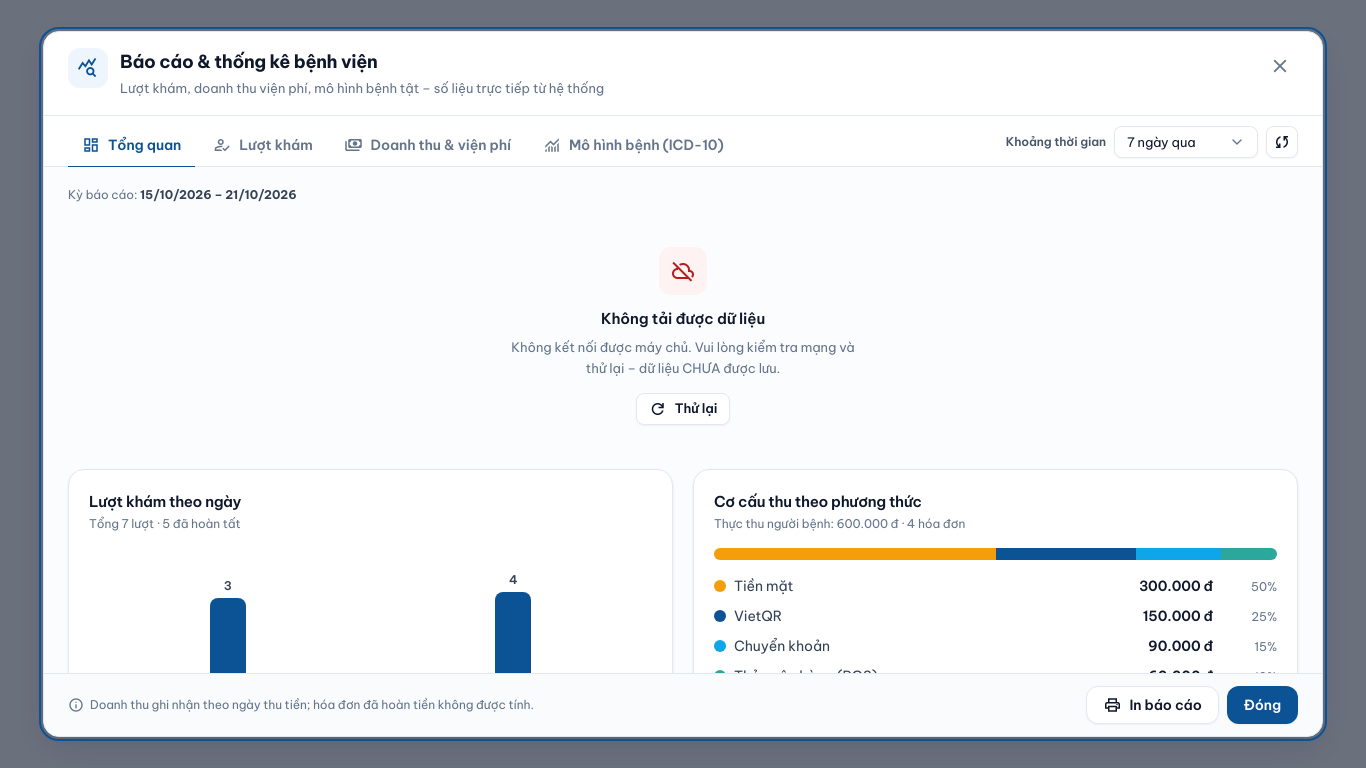
Scenario: Báo cáo & thống kê – chỉ dùng số liệu thật › StatisticsDashboardModal › lỗi tải → hiển thị trạng thái lỗi và nút Thử lại tải lại được
This screenshot has width=1366, height=768.
Expected: the text "Không kết nối được máy chủ" is shown, [511,339,855,376]
Click the button "Thử lại".
click(683, 408)  # box [636,392,730,424]
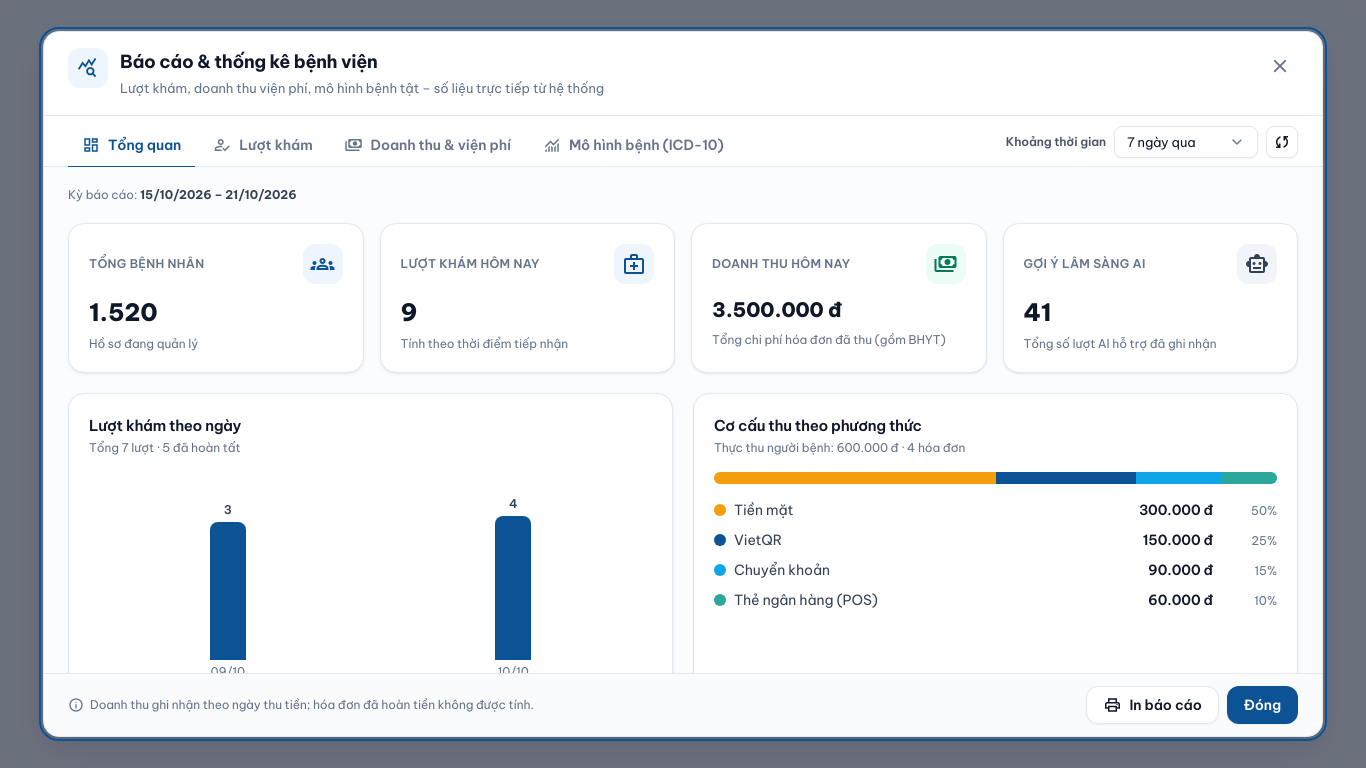
Expected: the text "1.520" is shown, [89,297,157,327]
